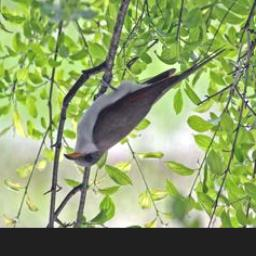Cuckoo: (60, 44, 224, 168)
